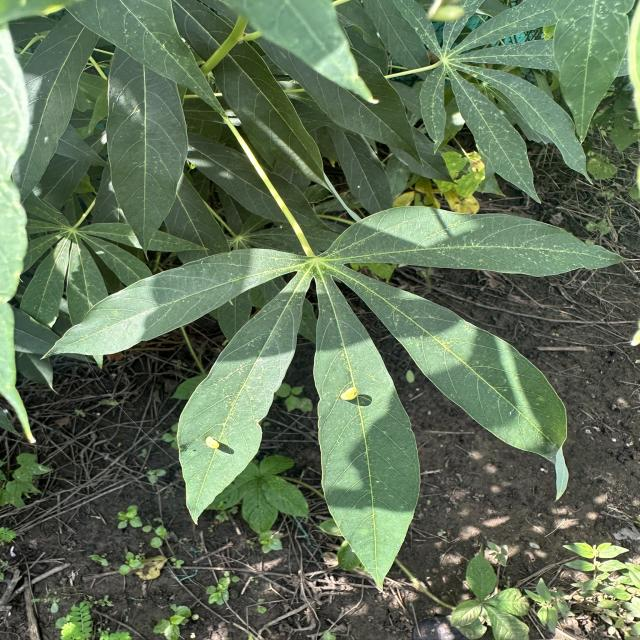Maleza: (438, 555, 631, 630)
Mosca: (332, 382, 368, 402), (29, 127, 57, 149), (199, 432, 227, 452)
